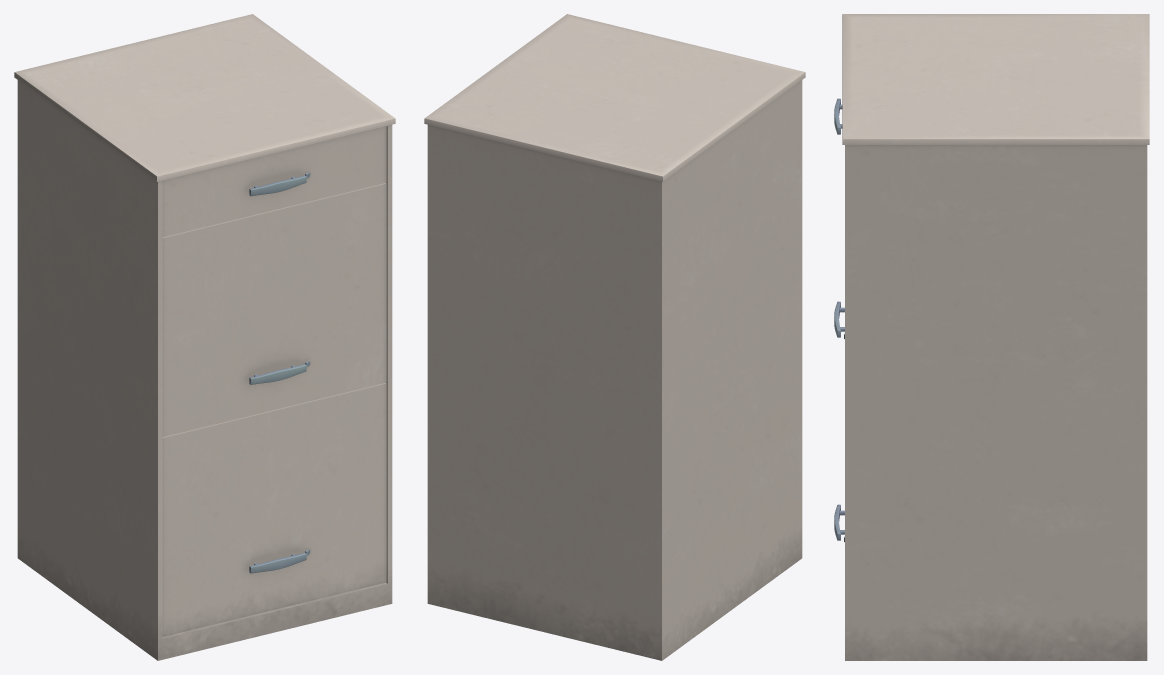
The model's file is office_filing_cabinet_free.glb.
The picture shows the model from 3 angles, left to right: view 1: azimuth 30°, elevation 25°; view 2: azimuth 150°, elevation 25°; view 3: azimuth 270°, elevation 25°; orthographic projection. The views are drawn at different scales.
Visible parts, largest first — view 1: Cube.000; view 2: Cube.000; view 3: Cube.000.
Boxes of the visible parts, x1,y1,x2,y2 form: Cube.000: [14, 14, 395, 660]; Cube.000: [424, 14, 805, 660]; Cube.000: [834, 14, 1149, 660].
Bounding box in the file's own units: 2 × 3.89 × 2.13.
Materials: 1 (1 with a texture image).
